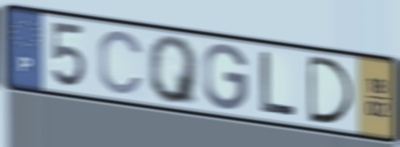5: (49, 19, 88, 90)
C: (96, 28, 146, 97)
D: (305, 53, 357, 127)
G: (201, 42, 251, 113)
L: (258, 49, 299, 121)
Q: (145, 35, 202, 108)
